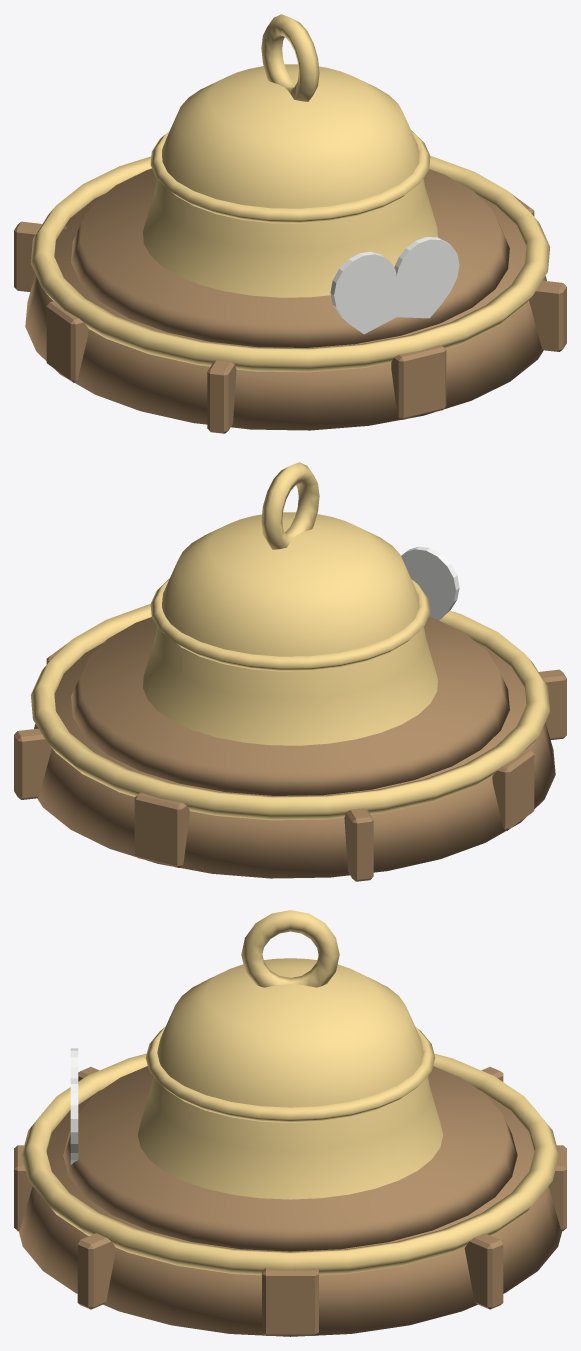
3 renders of one model, top to bottom at view 1: azimuth 30°, elevation 25°; view 2: azimuth 150°, elevation 25°; view 3: azimuth 270°, elevation 25°, orthographic. The views are drawn at different scales.
Visible parts, largest first — view 1: EL_PSwitch, EL_PSwitchCap; view 2: EL_PSwitch, EL_PSwitchCap; view 3: EL_PSwitch, EL_PSwitchCap.
Part boxes in pixels (bbox=[...]): EL_PSwitch: bbox=[14, 156, 566, 433]; EL_PSwitchCap: bbox=[143, 14, 459, 334]; EL_PSwitch: bbox=[14, 604, 566, 881]; EL_PSwitchCap: bbox=[143, 462, 459, 745]; EL_PSwitch: bbox=[14, 1053, 566, 1336]; EL_PSwitchCap: bbox=[70, 910, 442, 1199].
Size of the model in its own units: 2.92 by 2.08 by 2.92.
